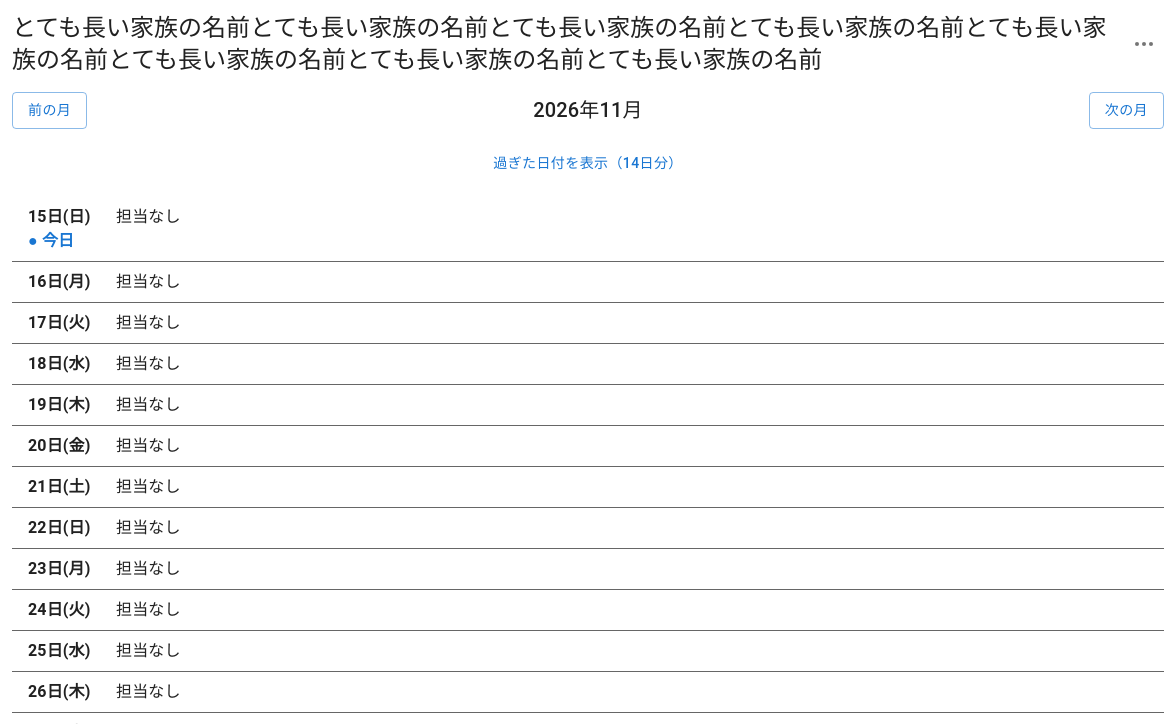
it: Given 家族のカレンダー / When 3点メニューを操作 / Then 必要な入口を使える › FR1: 最初は操作を隠し、家族名と同じ行で開く
This screenshot has width=1176, height=724.
Expected: the text "家族の設定" is not shown
Expected: the text "割り当てを変える" is not shown
Click the button named "家族のメニュー": coordinates (1144, 44) [1124, 24, 1164, 64]
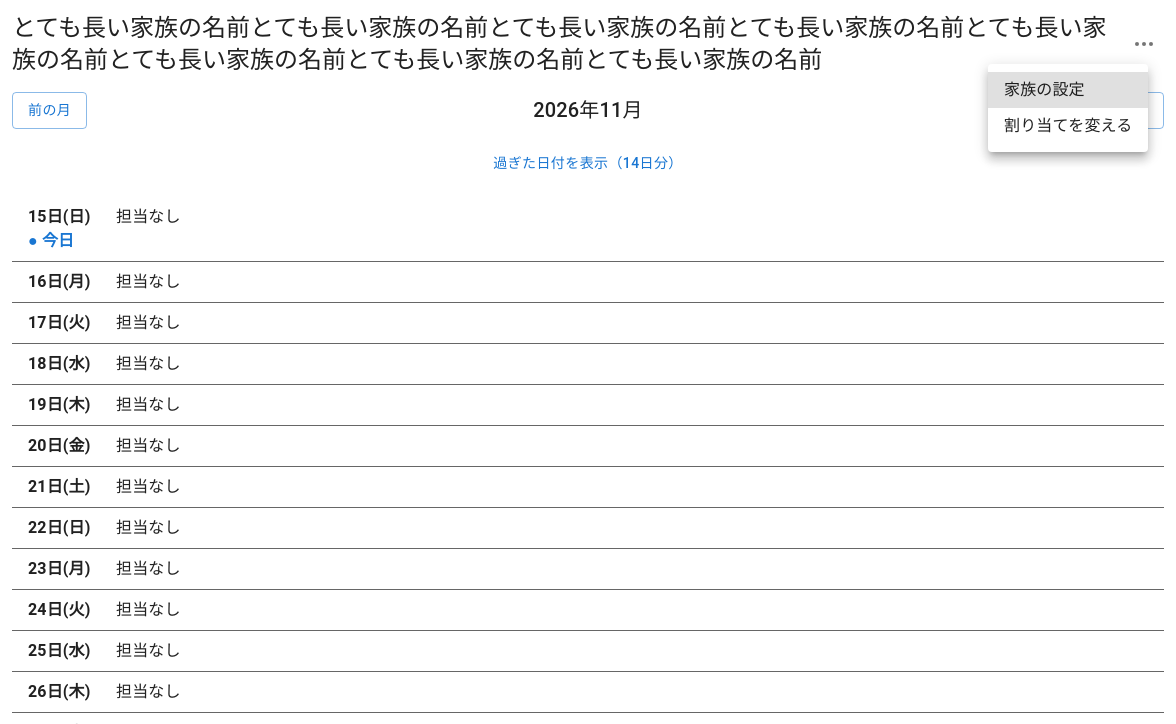
Expected: the menu item "家族の設定" is shown, [988, 72, 1148, 108]
